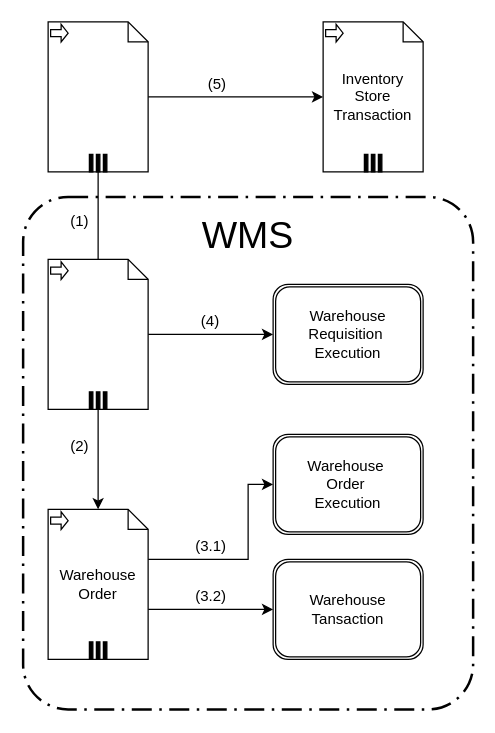
Image size: 495x733. Some labels were removed from this diagram. The shapes that lost their labels are listed below. From the top down, each one's centre as x and y in pixels, then its label:
pixel 97 96: Inventory Store Order
pixel 97 333: Warehouse Requisition
